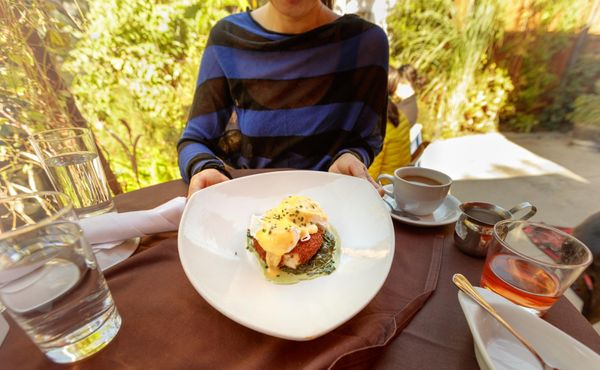pizza: (0, 125, 123, 364), (0, 219, 123, 363), (390, 165, 453, 216)
salad: (452, 272, 560, 369)
sushi: (481, 219, 593, 314)
